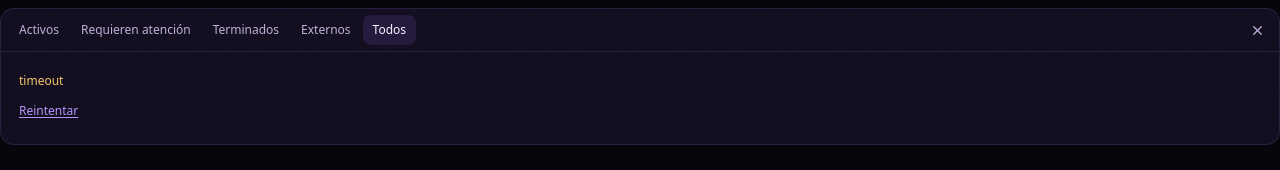
Test: T-5: fallo de listado visible con Reintentar y recuperación
Click the button "Reintentar" at point(49, 111), box x1=15 y1=96 x2=82 y2=126
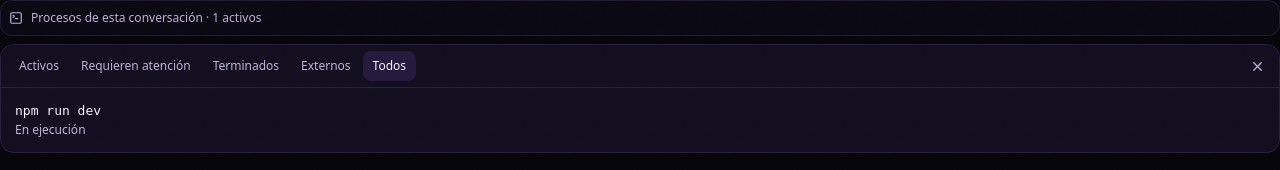
Now the text "npm run dev" is shown once, box x1=15 y1=102 x2=101 y2=120
Now the text "timeout" is not shown
